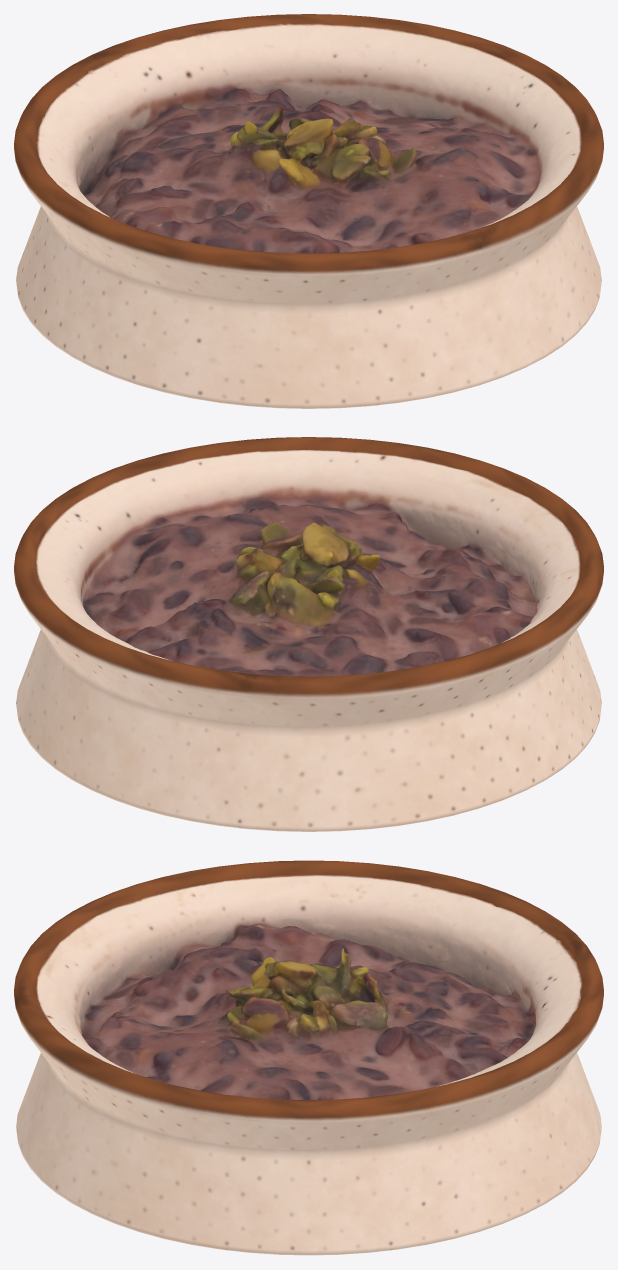
File: food11.glb
The picture shows the model from 3 angles, top to bottom: view 1: azimuth 30°, elevation 25°; view 2: azimuth 150°, elevation 25°; view 3: azimuth 270°, elevation 25°; orthographic projection.
Parts seen in each view (by area): view 1: pCylinder1.001, default1.001; view 2: pCylinder1.001, default1.001; view 3: pCylinder1.001, default1.001.
Boxes of the visible parts, x1,y1,x2,y2 form: pCylinder1.001: (14, 14, 603, 408); default1.001: (36, 23, 581, 253); pCylinder1.001: (14, 437, 603, 831); default1.001: (35, 449, 581, 676); pCylinder1.001: (14, 860, 603, 1255); default1.001: (36, 874, 582, 1099).
Bounding box in the file's own units: 0.0963 × 0.0332 × 0.0963.
2 materials, 2 textured.
